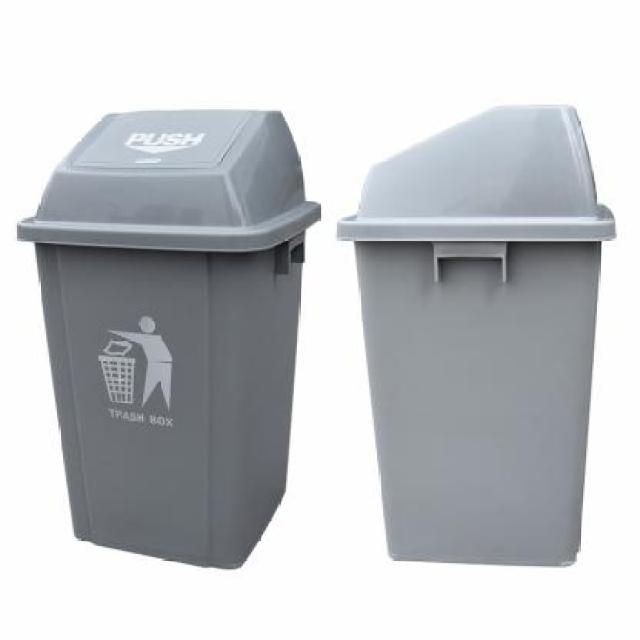garbage container: (14, 96, 331, 581), (327, 94, 629, 590)
